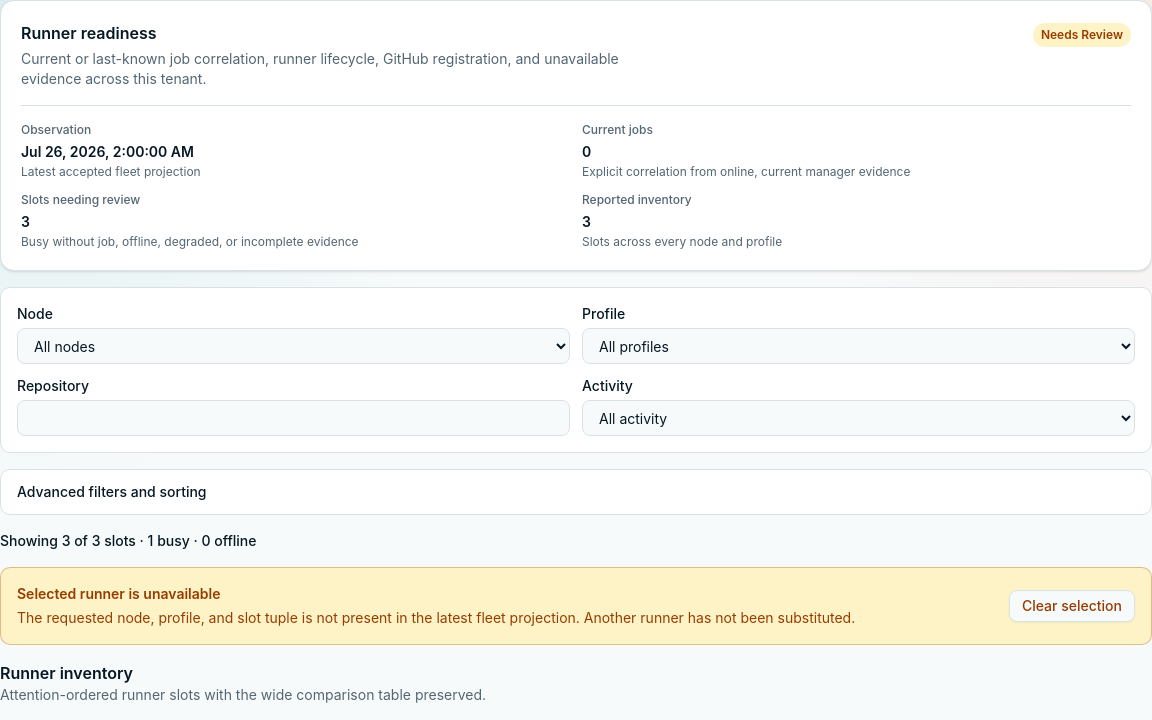
Test: runners feature › does not substitute another runner when a deep-linked tuple is unavailable
The image size is (1152, 720).
Expected: the text "Selected runner is unavailable" is shown, [17,585,220,602]
Expected: the heading "Busy runner without job identity" is not shown
Click the button "Clear selection" at {"x": 1072, "y": 606}, box [1009,590,1135,622]
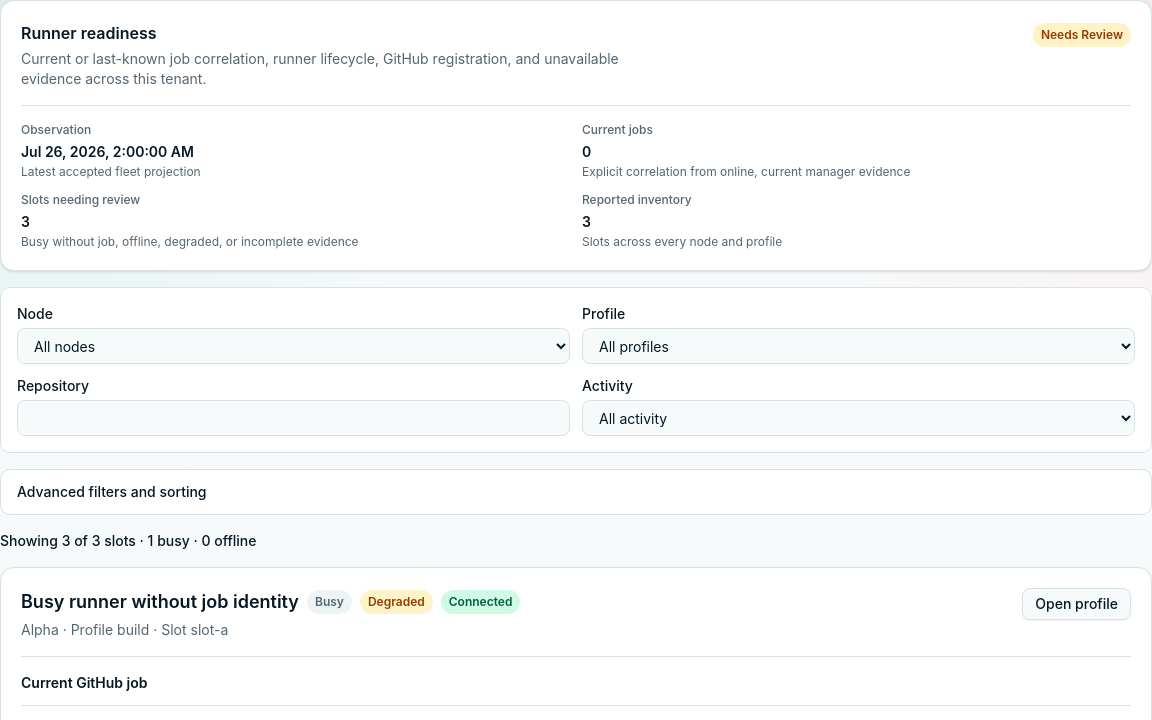
Expected: the heading "Busy runner without job identity" is shown, [21,588,299,616]
